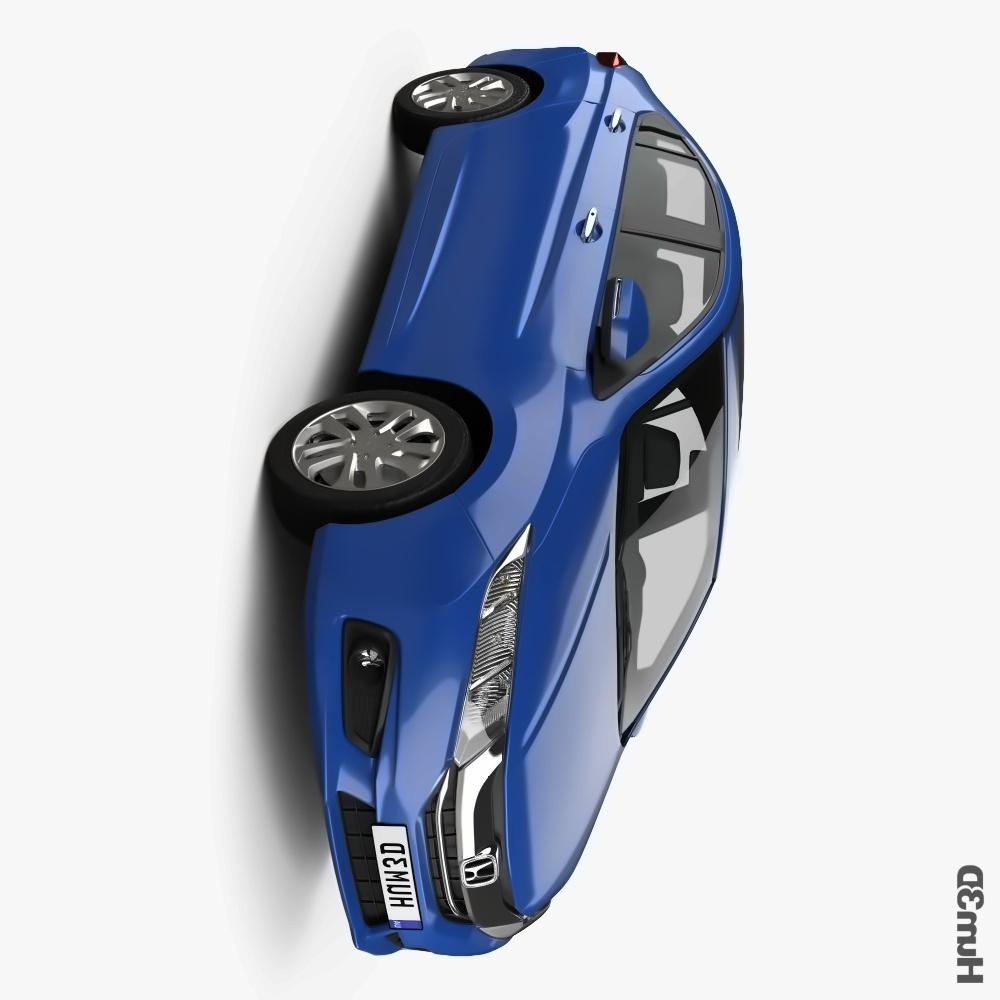Car hood: (502, 430, 629, 918)
Driver-s door - -F-R-: (384, 204, 734, 358)
Fender - -F-R-: (364, 359, 642, 559)
Fender - -R-R-: (424, 55, 643, 134)
Front bumper: (299, 507, 489, 961)
Headlight - -R-: (445, 510, 539, 777)
Passenger-s door - -R-R-: (420, 95, 733, 222)
Rear bumper: (454, 35, 583, 73)
Rear light - -R-: (584, 39, 640, 75)
Side bumper - -R-: (350, 110, 461, 391)
Side mirror - -R-: (587, 260, 661, 365)
